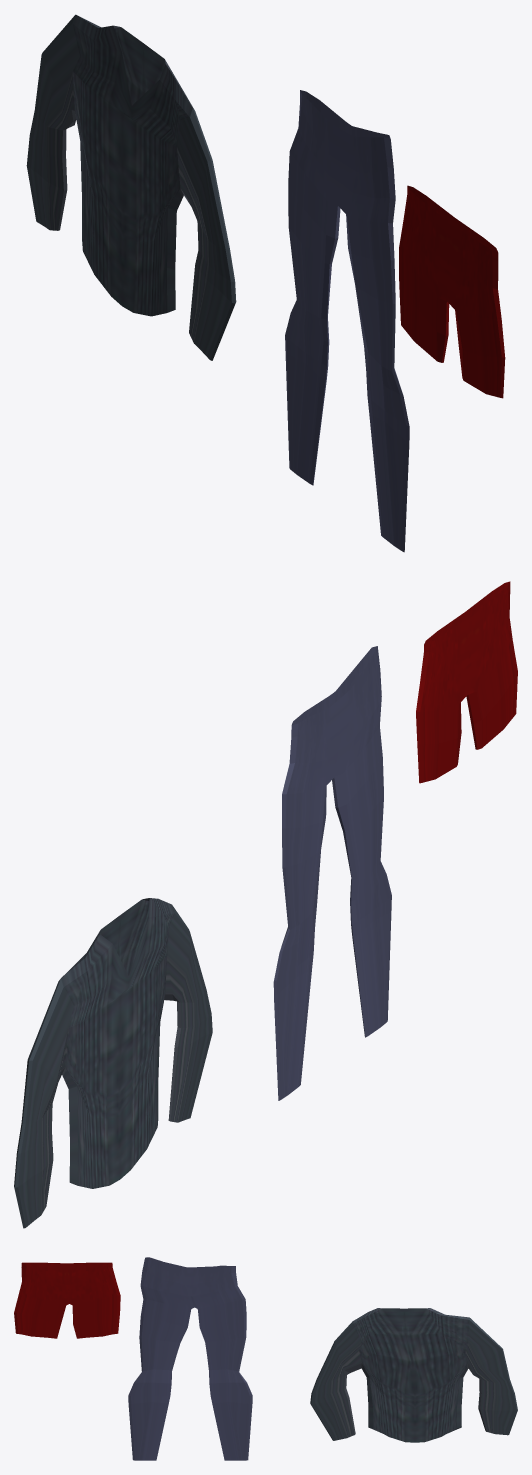
File: roupas.fbx
3 renders of one model, top to bottom at view 1: azimuth 30°, elevation 25°; view 2: azimuth 150°, elevation 25°; view 3: azimuth 270°, elevation 25°, orthographic. The views are drawn at different scales.
Parts seen in each view (by area): view 1: BLUSA, CALCA, CALCA.001; view 2: BLUSA, CALCA, CALCA.001; view 3: BLUSA, CALCA, CALCA.001.
Part boxes in pixels (x1,y1,x2,y2): BLUSA: (26, 14, 236, 360); CALCA: (285, 90, 409, 552); CALCA.001: (399, 185, 505, 398); BLUSA: (14, 898, 212, 1228); CALCA: (273, 646, 391, 1100); CALCA.001: (416, 581, 517, 783); BLUSA: (310, 1308, 517, 1442); CALCA: (128, 1257, 252, 1460); CALCA.001: (14, 1262, 120, 1338).
Bounding box in the file's own units: 30.8 × 345 × 776.
Materials: 3 (3 with a texture image).
